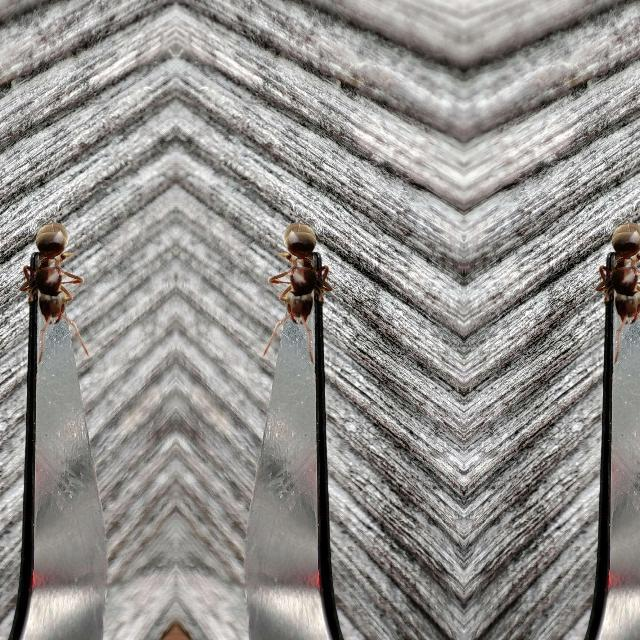Lasius: (262, 212, 328, 338), (22, 212, 88, 338), (598, 210, 640, 338)
